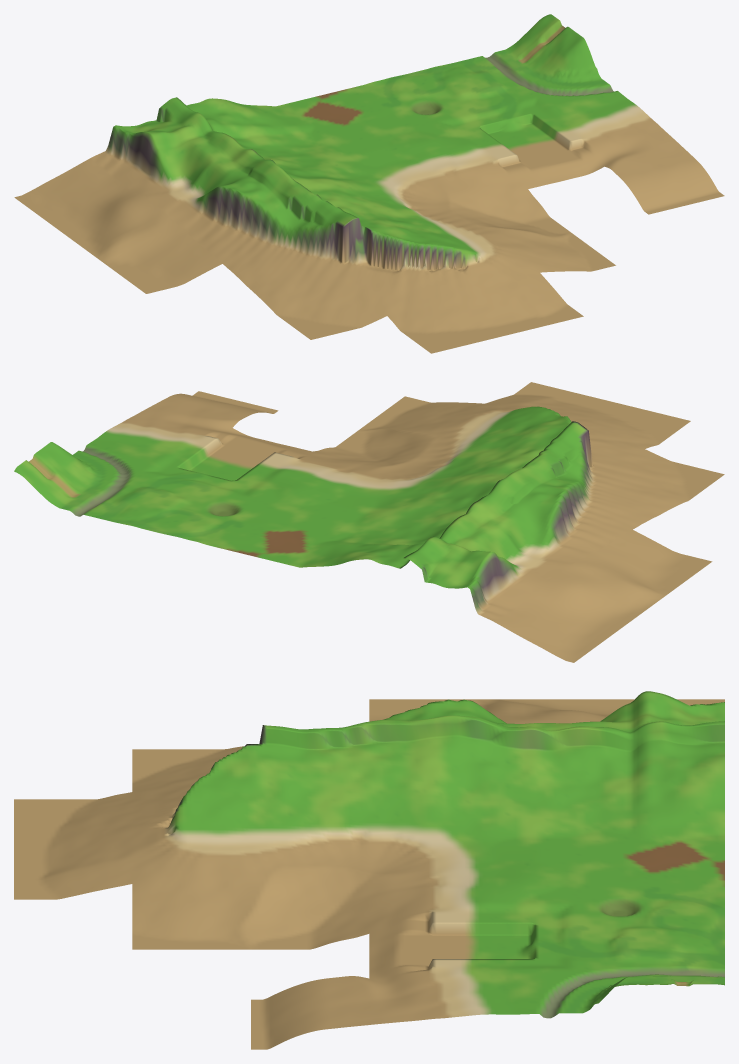
File: terrain.glb
3 renders of one model, top to bottom at view 1: azimuth 30°, elevation 25°; view 2: azimuth 150°, elevation 25°; view 3: azimuth 270°, elevation 25°, orthographic. The views are drawn at different scales.
Visible parts, largest first — view 1: terrain_2_5, terrain_1_5, terrain_1_6, terrain_2_6; view 2: terrain_2_5, terrain_1_5, terrain_1_6, terrain_2_6; view 3: terrain_2_5, terrain_1_5, terrain_2_6, terrain_1_6.
Boxes of the visible parts, bbox=[...] form: terrain_2_5: bbox=[243, 14, 724, 235]; terrain_1_5: bbox=[14, 97, 418, 304]; terrain_1_6: bbox=[267, 229, 507, 353]; terrain_2_6: bbox=[420, 231, 615, 334]; terrain_2_5: bbox=[14, 391, 518, 567]; terrain_1_5: bbox=[334, 421, 712, 662]; terrain_1_6: bbox=[519, 401, 724, 504]; terrain_2_6: bbox=[359, 382, 610, 432]; terrain_2_5: bbox=[251, 797, 724, 1049]; terrain_1_5: bbox=[251, 691, 724, 807]; terrain_2_6: bbox=[14, 793, 250, 949]; terrain_1_6: bbox=[14, 744, 250, 849].
Size of the model in its own units: 315 by 37.18 by 270.
